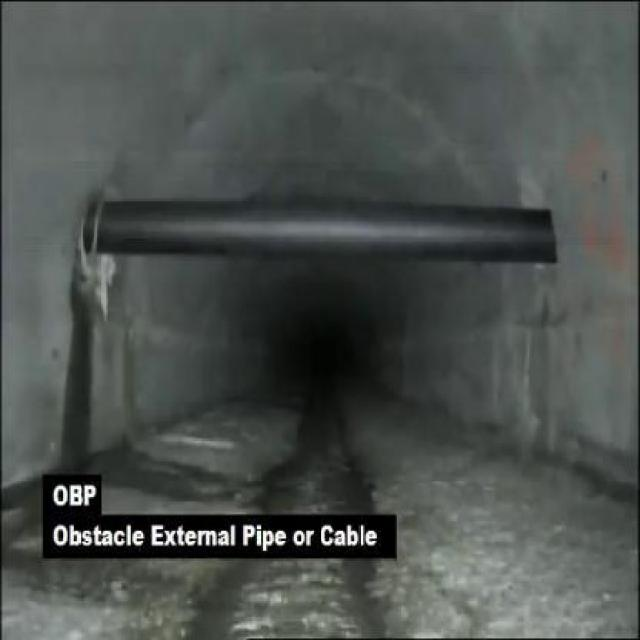Utility intrusion: (80, 189, 568, 269)
